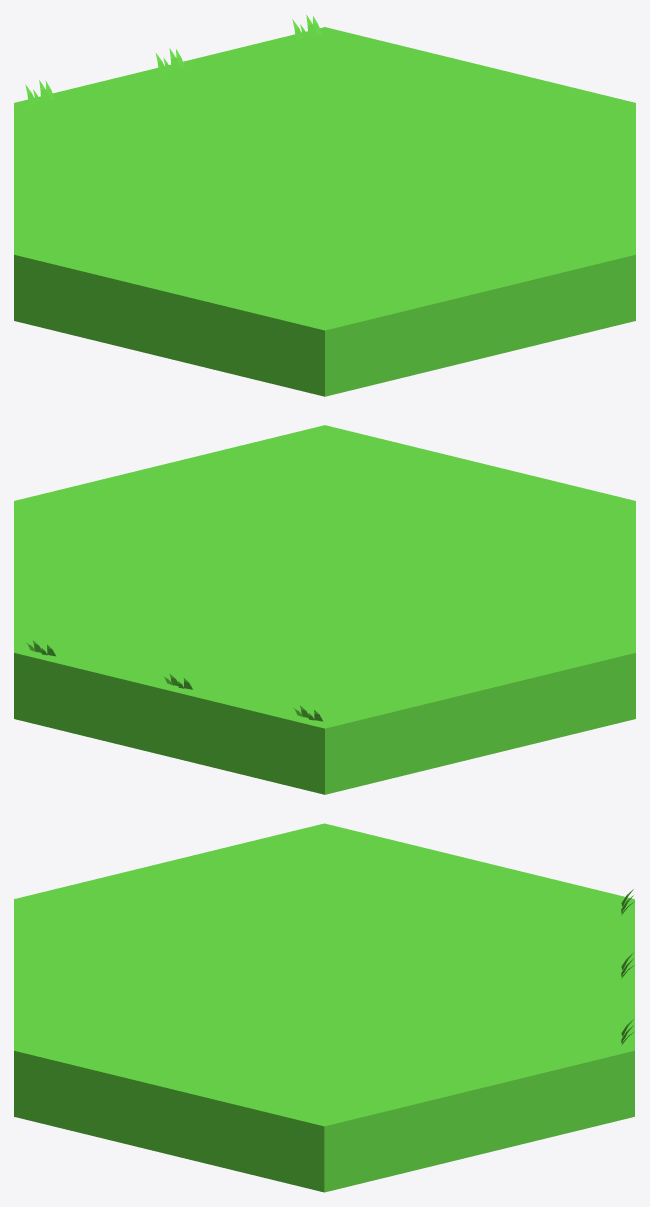
The model's file is grass_tile_2.glb.
The picture shows the model from 3 angles, top to bottom: view 1: azimuth 30°, elevation 25°; view 2: azimuth 150°, elevation 25°; view 3: azimuth 270°, elevation 25°; orthographic projection.
Visible parts, largest first — view 1: grass; view 2: grass; view 3: grass.
Part boxes in pixels (bbox=[...]): grass: bbox=[14, 27, 635, 396]; grass: bbox=[14, 425, 635, 794]; grass: bbox=[14, 823, 634, 1192].
Size of the model in its own units: 2 by 0.2569 by 1.74.
